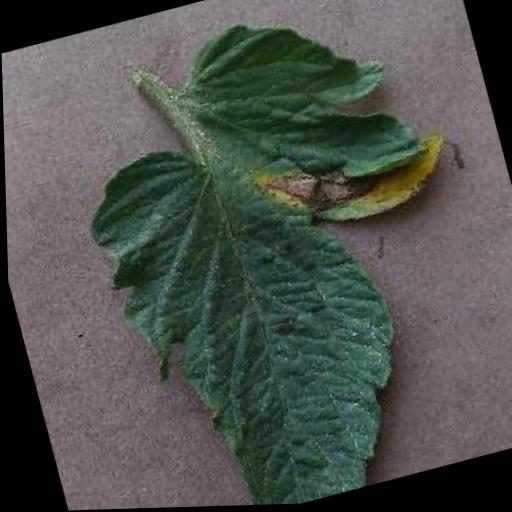Early Blight: (43, 0, 512, 511)
